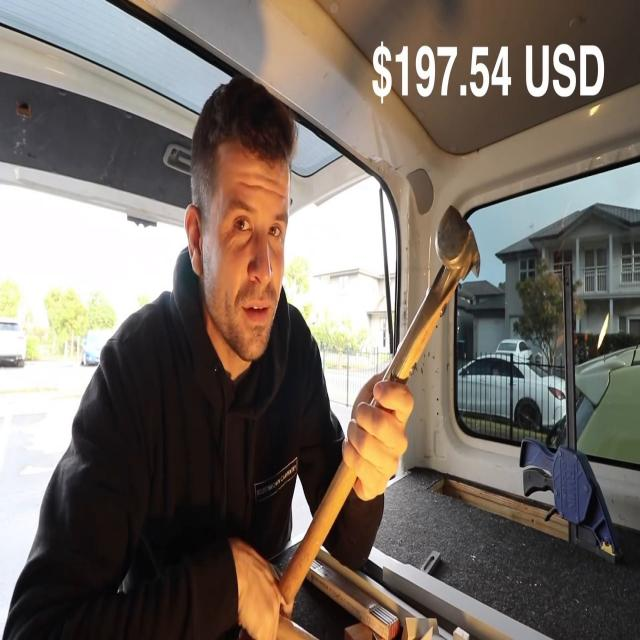hammer: (276, 203, 486, 608)
